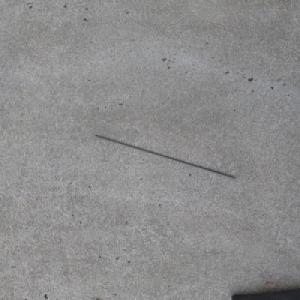LuggagePart: (94, 134, 236, 178)
